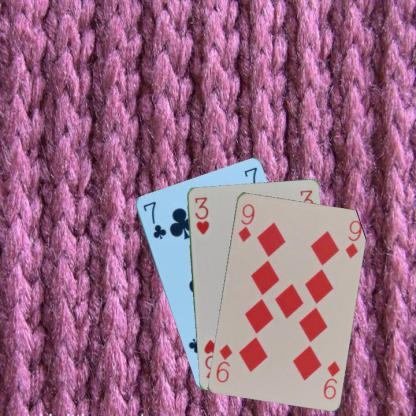3h: (192, 194, 210, 236)
7c: (140, 199, 167, 240)
9d: (320, 358, 341, 401), (235, 201, 256, 243)
